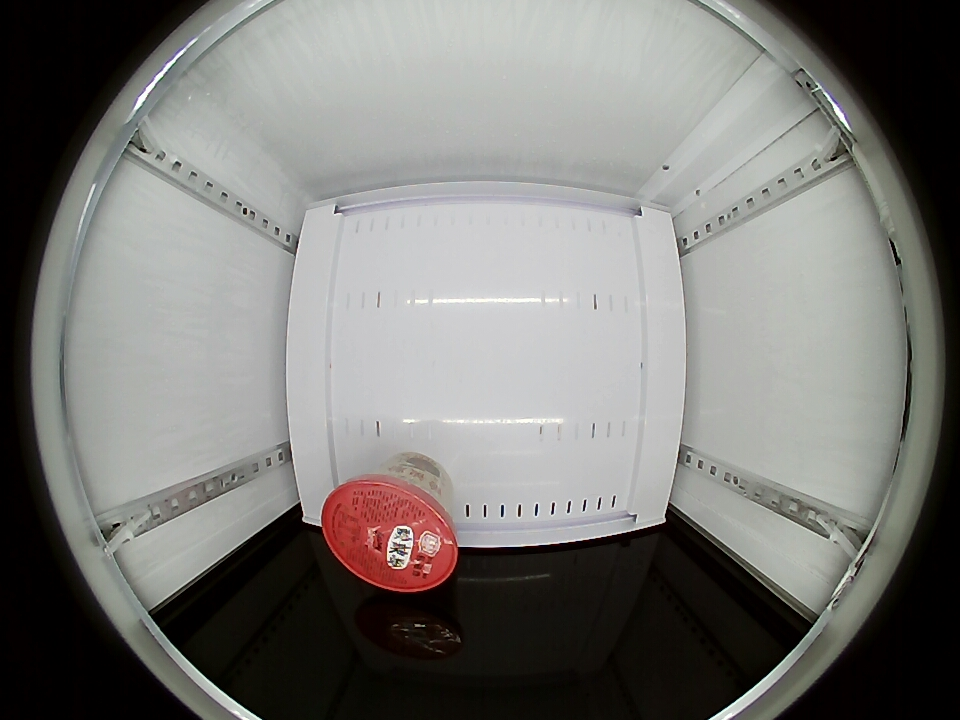suanlafen: (322, 470, 459, 592)
